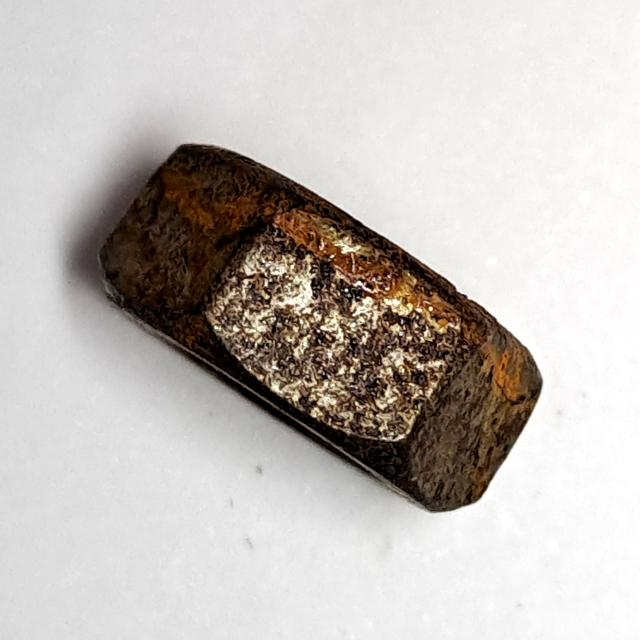Side_Rust: (87, 130, 555, 528)
